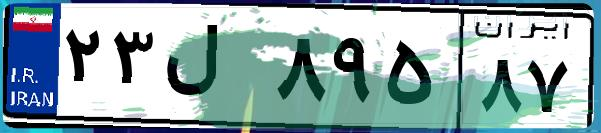2: (57, 26, 110, 100)
3: (110, 28, 158, 98)
5: (385, 28, 445, 110)
7: (525, 38, 570, 115)
8: (270, 28, 330, 110), (475, 38, 525, 113)
9: (330, 28, 385, 110)
ل: (158, 20, 270, 120)
